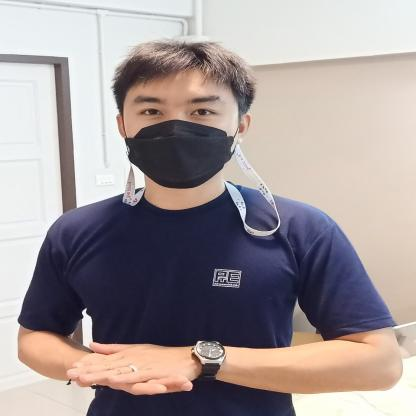Love: (15, 316, 403, 404)
